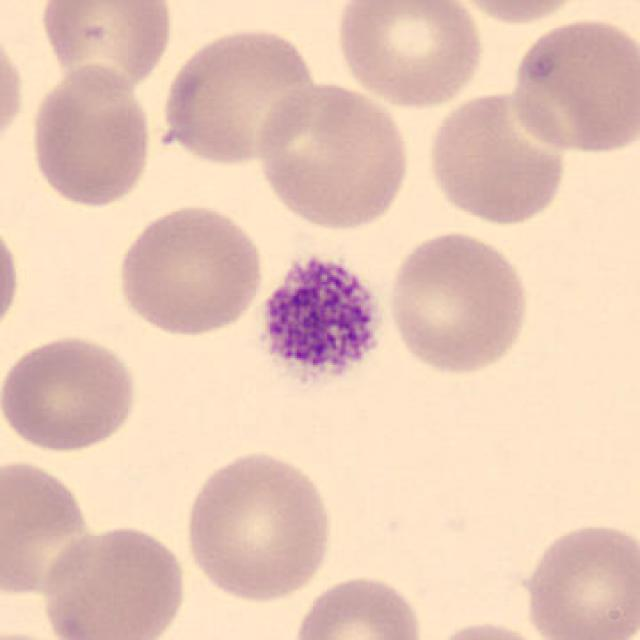Platelets: (244, 244, 396, 406)
RBC: (180, 446, 338, 605), (251, 78, 414, 232), (156, 21, 322, 169), (384, 226, 533, 377), (423, 84, 573, 228), (112, 201, 267, 339), (25, 62, 156, 210), (505, 14, 638, 159), (38, 520, 190, 640), (0, 330, 142, 455), (331, 0, 487, 111), (518, 518, 638, 640), (0, 455, 98, 601), (36, 0, 178, 97), (288, 571, 428, 640), (446, 0, 596, 28), (0, 23, 28, 157), (420, 617, 558, 640), (0, 213, 23, 344)
